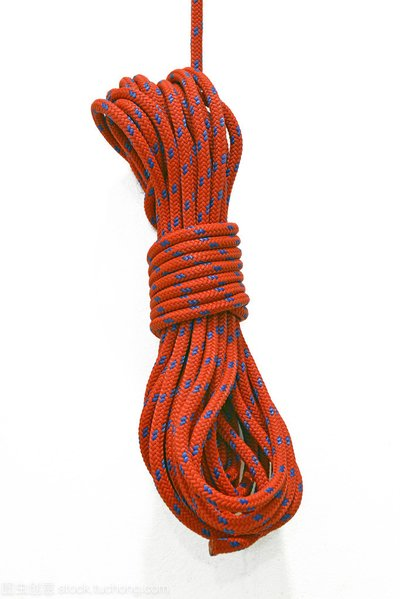9/可回收垃圾/绳子: (90, 1, 304, 558)
